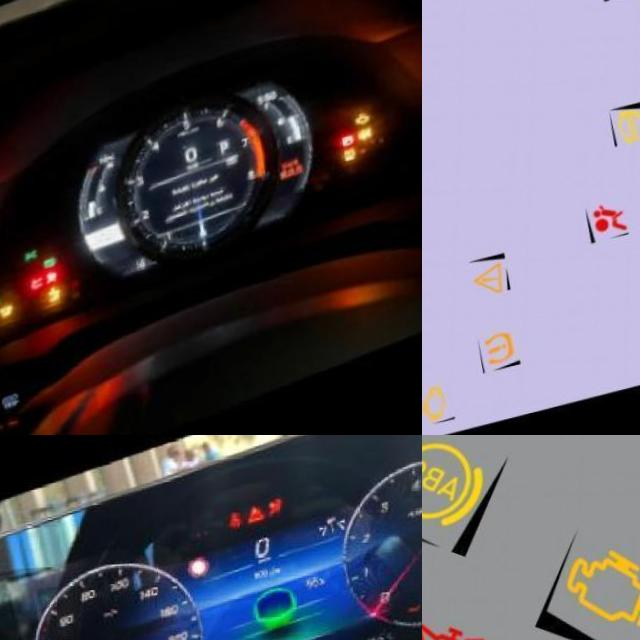Seat Belt: (226, 516, 243, 540)
